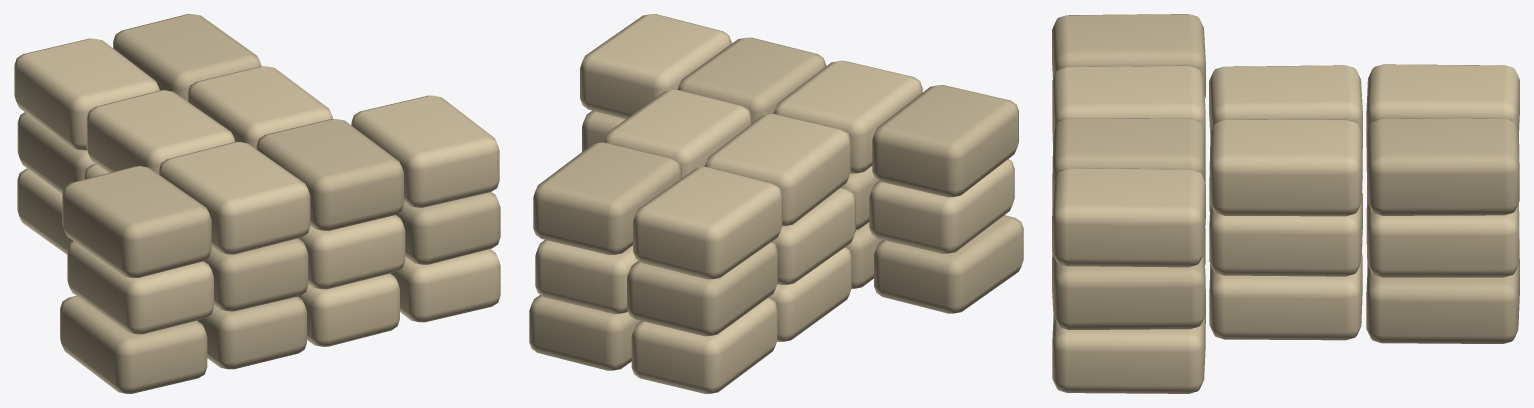
Rendered from JPN-11.glb.
3 renders of one model, left to right at view 1: azimuth 30°, elevation 25°; view 2: azimuth 150°, elevation 25°; view 3: azimuth 270°, elevation 25°, orthographic. The views are drawn at different scales.
Visible parts, largest first — view 1: handmade block.016, handmade block.017, handmade block.023, handmade block.020, handmade block.019, handmade block, handmade block.018, handmade block.008, handmade block.022, handmade block.021, handmade block.007, handmade block.001 (+6 smaller); view 2: handmade block.019, handmade block.016, handmade block.022, handmade block.023, handmade block.018, handmade block, handmade block.011, handmade block.003, handmade block.008, handmade block.017, handmade block.021, handmade block.020 (+7 smaller); view 3: handmade block.023, handmade block.022, handmade block.021, handmade block.006, handmade block.007, handmade block.005, handmade block.015, handmade block.014, handmade block.013, handmade block.018, handmade block.019, handmade block.017 (+2 smaller).
Boxes of the visible parts, box(x1,y1,x2,y2) form: handmade block.016: box(62, 166, 211, 278); handmade block.017: box(158, 142, 310, 254); handmade block.023: box(351, 95, 499, 207); handmade block.020: box(256, 119, 403, 230); handmade block.019: box(14, 38, 159, 150); handmade block: box(60, 296, 207, 393); handmade block.018: box(86, 90, 235, 173); handmade block.008: box(67, 241, 213, 334); handmade block.022: box(113, 14, 261, 101); handmade block.021: box(187, 66, 333, 148); handmade block.007: box(390, 249, 500, 322); handmade block.001: box(197, 296, 306, 369); handmade block.019: box(633, 167, 782, 279); handmade block.016: box(872, 85, 1018, 197); handmade block.022: box(533, 142, 681, 254); handmade block.023: box(580, 14, 731, 118); handmade block.018: box(704, 114, 850, 226); handmade block: box(874, 215, 1023, 313); handmade block.011: box(627, 242, 777, 336); handmade block.003: box(631, 297, 777, 393); handmade block.008: box(869, 159, 1014, 253); handmade block.017: box(773, 60, 922, 173); handmade block.021: box(604, 89, 751, 177); handmade block.020: box(677, 37, 826, 123); handmade block.023: box(1052, 168, 1205, 267); handmade block.022: box(1366, 118, 1519, 215); handmade block.021: box(1209, 119, 1362, 216); handmade block.006: box(1366, 258, 1519, 343); handmade block.007: box(1052, 315, 1205, 393); handmade block.005: box(1209, 254, 1362, 340); handmade block.015: box(1052, 250, 1205, 329); handmade block.014: box(1367, 193, 1519, 277); handmade block.013: box(1209, 192, 1362, 276); handmade block.018: box(1209, 65, 1362, 148); handmade block.019: box(1366, 64, 1519, 146); handmade block.017: box(1052, 65, 1205, 149).
Bounding box in the file's own units: 1.93 × 0.815 × 1.85.
